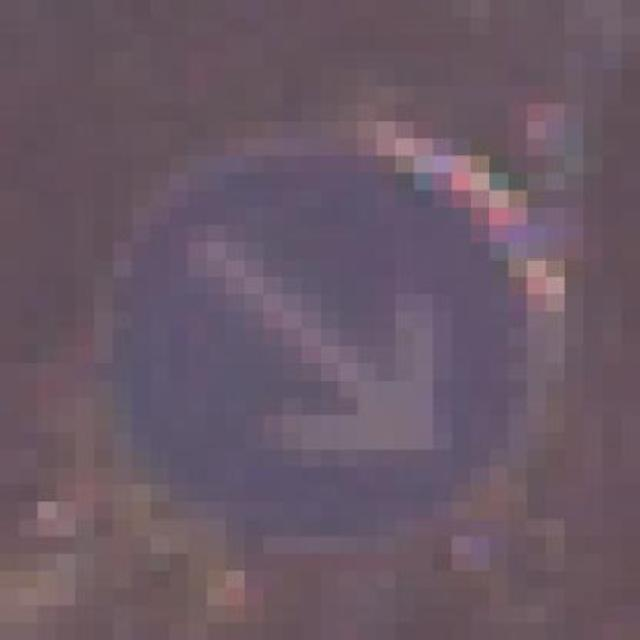Keep-Right: (94, 104, 603, 588)
